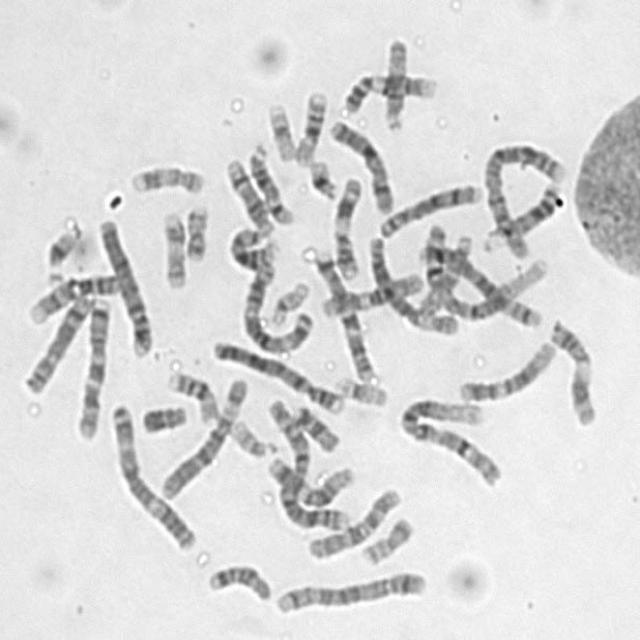A1: (415, 215, 548, 323), (392, 390, 503, 488)
A2: (261, 391, 353, 532), (476, 134, 568, 260)
A3: (104, 396, 198, 552), (235, 254, 315, 356)
B4: (205, 332, 346, 414), (90, 210, 155, 358)
B5: (414, 226, 546, 328), (268, 562, 430, 616)
C10: (300, 479, 403, 561), (314, 264, 426, 318)
C11: (544, 312, 600, 427), (326, 169, 365, 282)
C12: (452, 333, 558, 403), (261, 447, 355, 510)
C6: (153, 368, 251, 502), (360, 226, 463, 338)
C7: (308, 242, 378, 383), (68, 288, 114, 440)
C8: (18, 286, 96, 396), (372, 174, 483, 239)
C9: (22, 265, 123, 325), (337, 64, 441, 115)
D13: (476, 175, 564, 252), (222, 218, 280, 270)
D14: (241, 134, 296, 226), (218, 150, 276, 236)
D15: (414, 228, 476, 316), (377, 30, 410, 134)
E16: (160, 364, 220, 424), (288, 82, 329, 166)
E17: (123, 156, 207, 197), (154, 203, 190, 291)
E18: (201, 555, 273, 604), (286, 396, 342, 454)
F19: (328, 367, 391, 409), (260, 94, 298, 162)
F20: (354, 508, 416, 566), (179, 197, 211, 263)
G21: (37, 221, 79, 285), (301, 152, 340, 202)
G22: (263, 273, 312, 328), (224, 411, 278, 460)
X: (322, 111, 397, 216)
Y: (136, 396, 190, 435)
